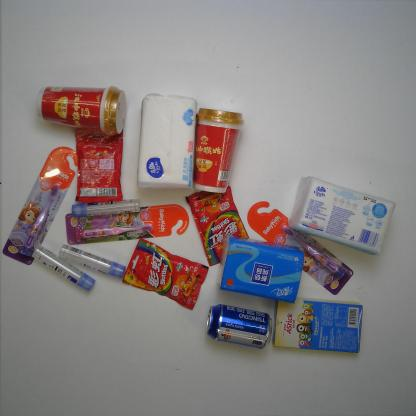Alcohol: (205, 304, 275, 350)
Candy: (120, 236, 210, 311), (184, 183, 253, 268), (72, 122, 125, 204)
Dessert: (272, 293, 364, 355)
Instant Drink: (185, 103, 250, 196), (35, 84, 128, 136)
Personal Hygiene: (246, 200, 355, 296), (0, 146, 79, 266), (64, 202, 189, 246)
Stationery: (28, 245, 96, 292), (57, 243, 127, 279), (70, 196, 141, 219)
Tissue: (288, 174, 397, 258), (214, 234, 307, 304), (137, 90, 199, 192)
